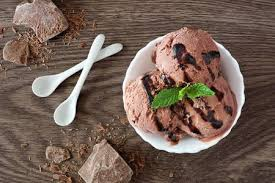ice-cream: (154, 28, 219, 85), (126, 71, 181, 138), (180, 80, 236, 142)
